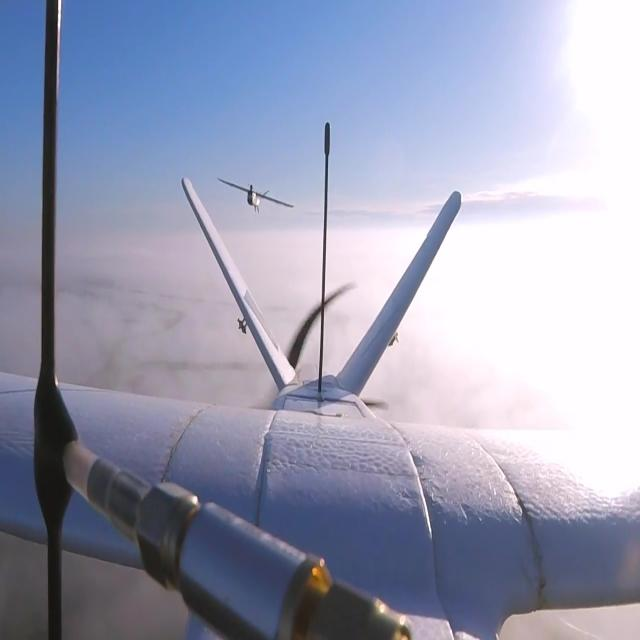iha: (0, 166, 640, 640), (247, 176, 264, 216)
